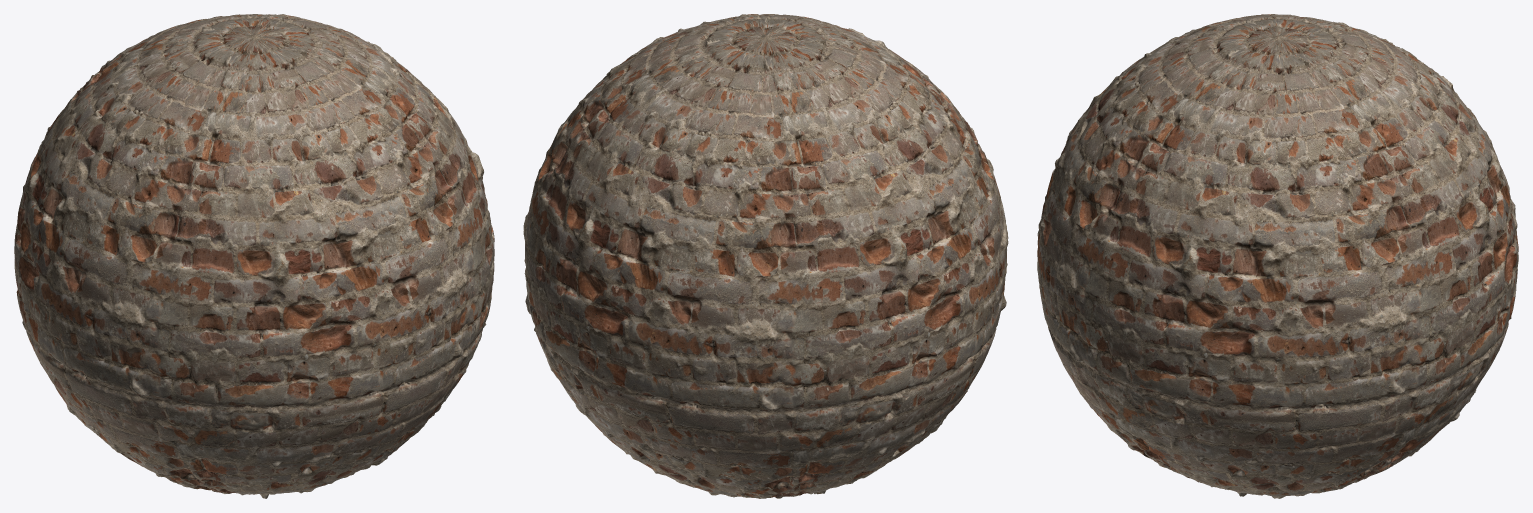
File: wall_bricks_plaster_4k.gltf
3 renders of one model, left to right at view 1: azimuth 30°, elevation 25°; view 2: azimuth 150°, elevation 25°; view 3: azimuth 270°, elevation 25°, orthographic.
Visible parts, largest first — view 1: sphere_gltf; view 2: sphere_gltf; view 3: sphere_gltf.
Boxes of the visible parts, x1,y1,x2,y2 form: sphere_gltf: (14,14,494,498); sphere_gltf: (523,14,1008,498); sphere_gltf: (1037,14,1518,498).
Size of the model in its own units: 1 by 1.01 by 1.
1 material, 1 textured.
